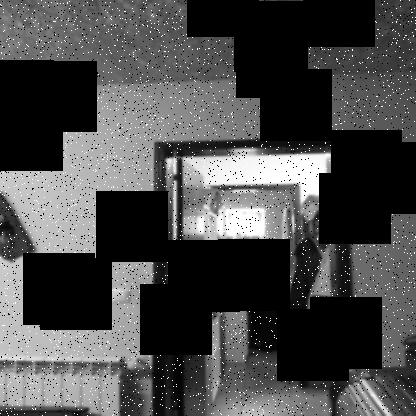Porte: (149, 134, 359, 415)
